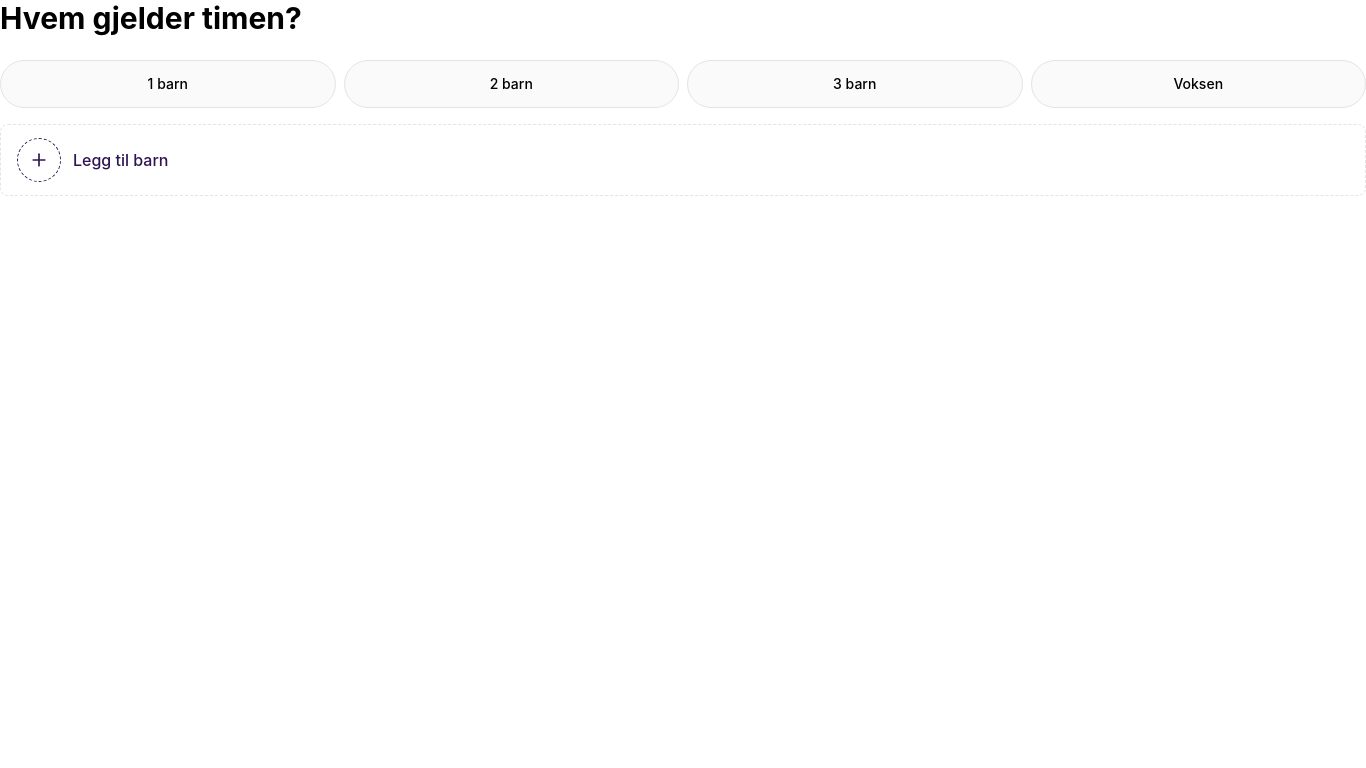
Test: WhoScreen — a guest › adds a child from the sheet with what was typed
This screenshot has width=1366, height=768.
Click the button "Legg til barn": (39, 160) [0,124,1365,196]
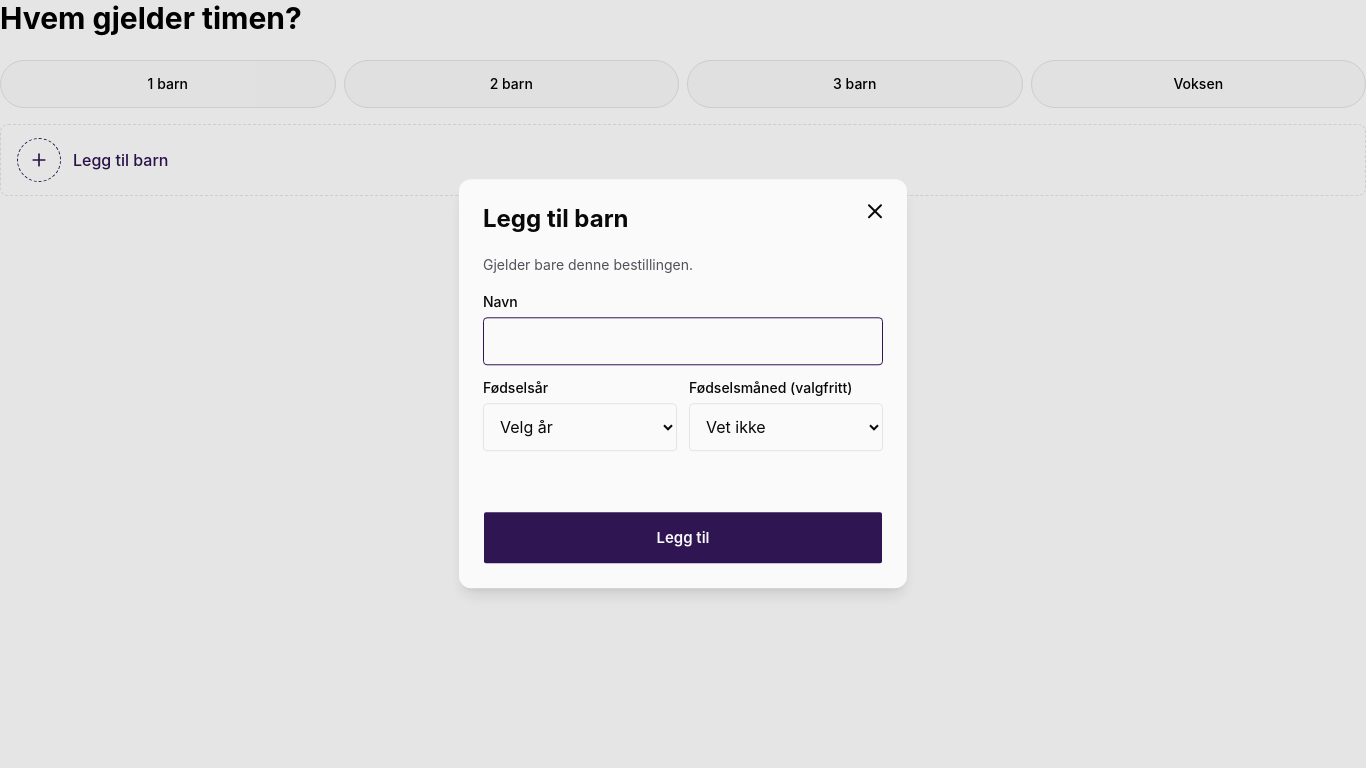
In the field labelled "Navn": (683, 341) [483,317,883,365], type "Theo"
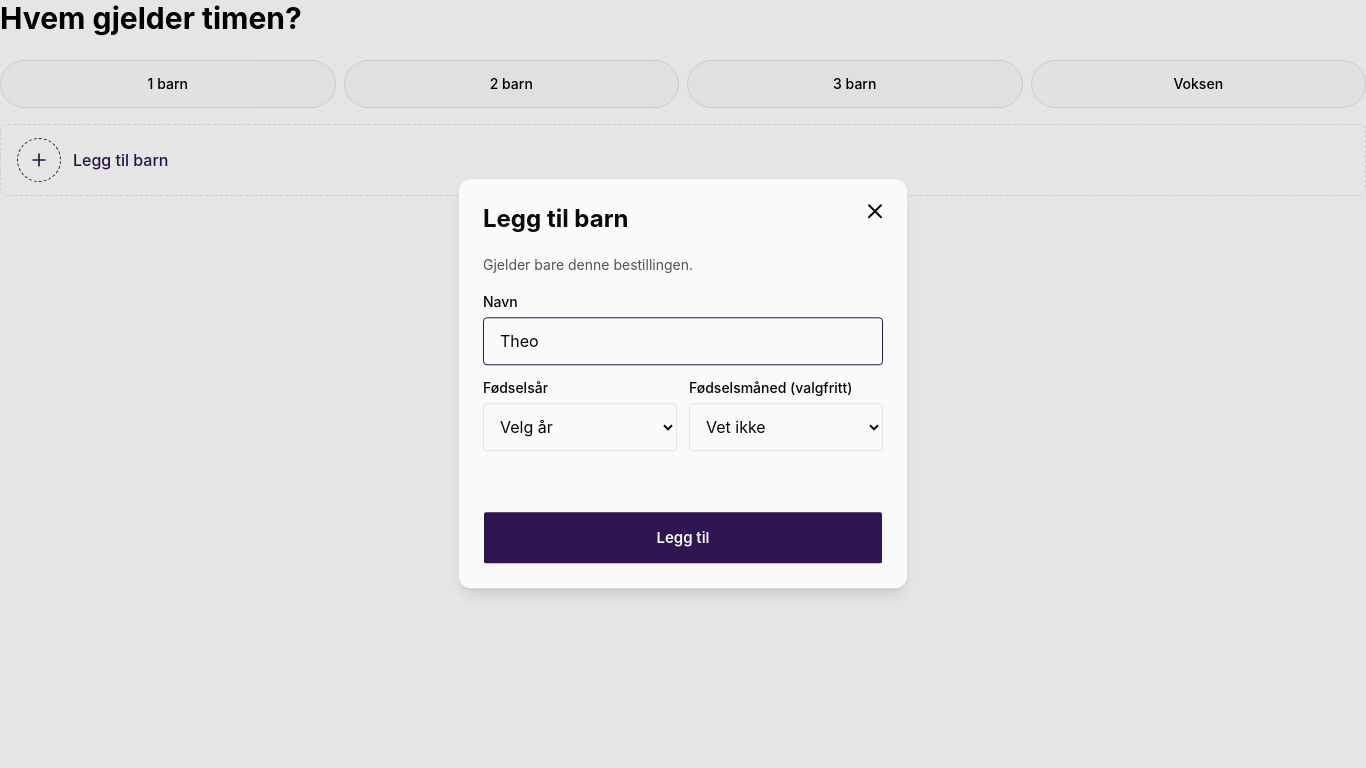
Select "2019" in the dropdown labelled "Fødselsår": (580, 427) [483,403,677,451]
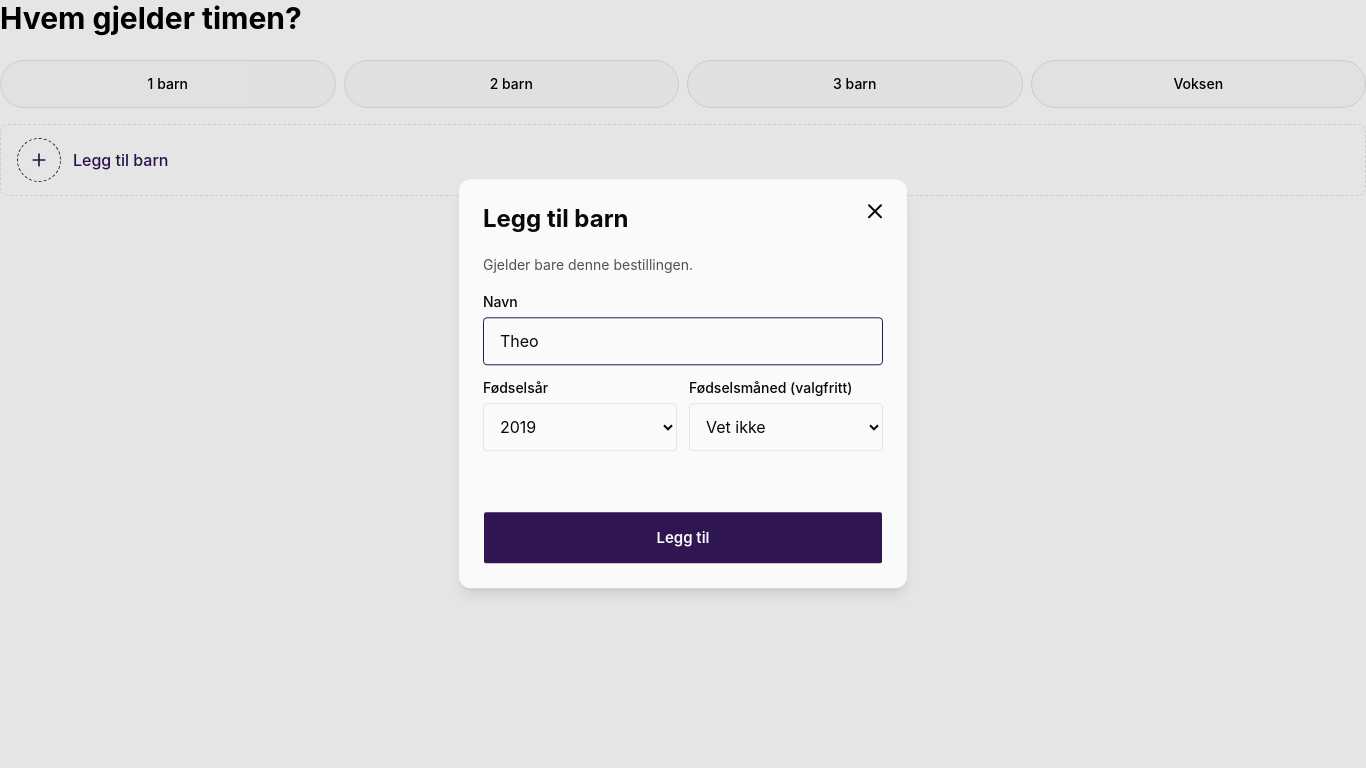
Select "3" in the dropdown labelled "Fødselsmåned (valgfritt)": (786, 427) [689,403,883,451]
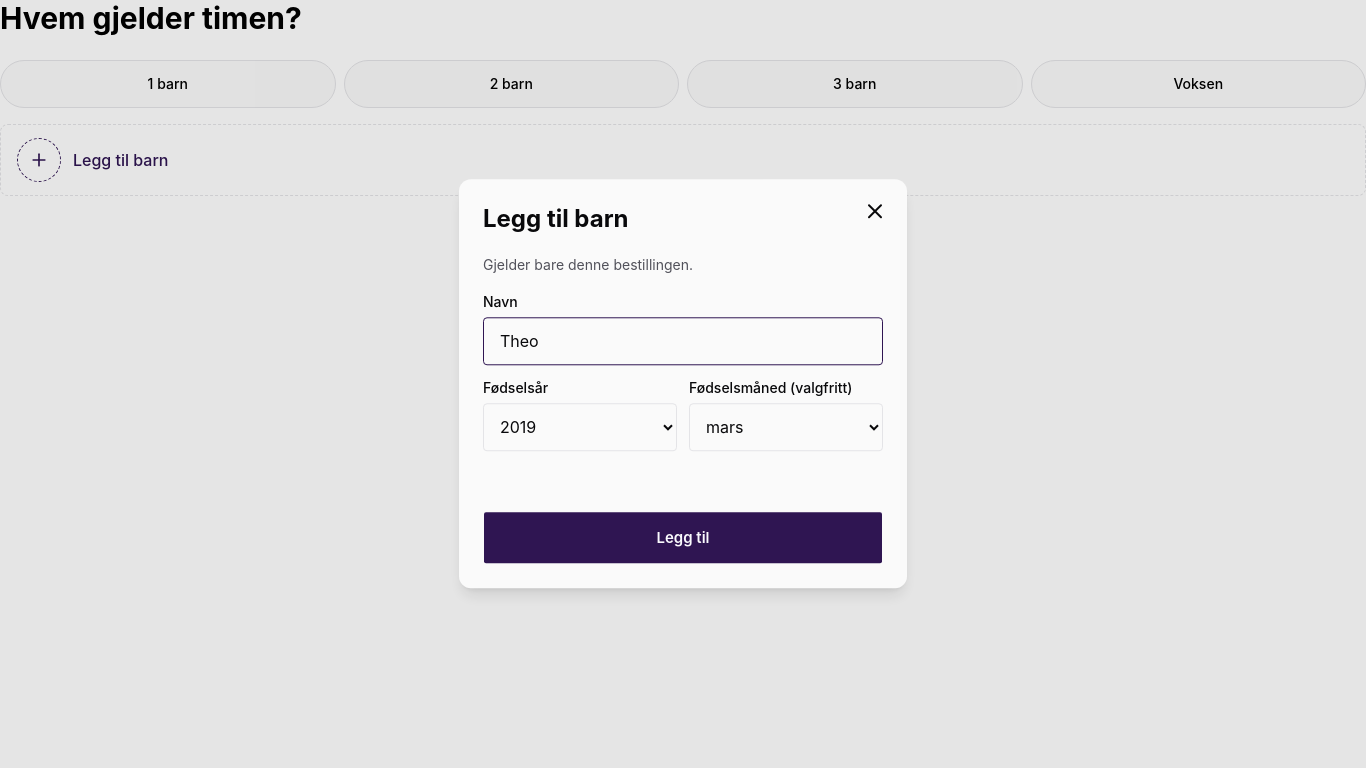
Click the button "Legg til": (683, 538) [483,511,883,565]
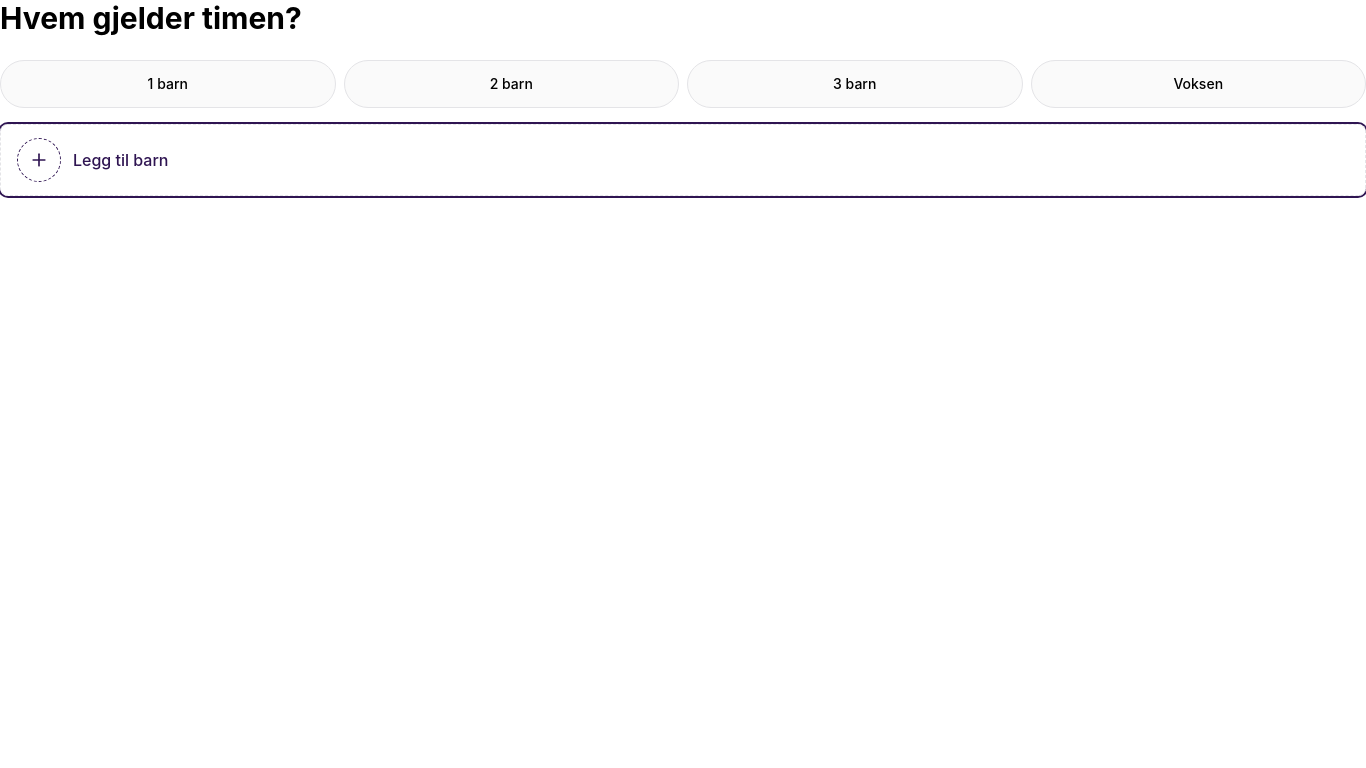
Expected: the dialog is gone
